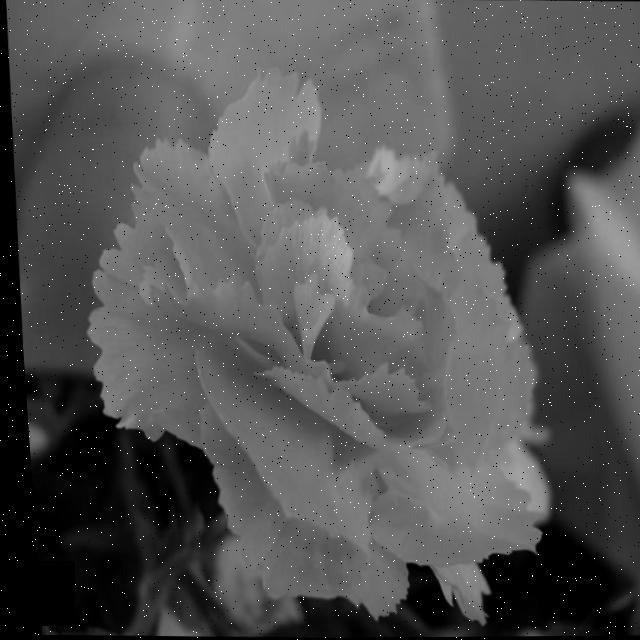carnation: (77, 97, 554, 626)
